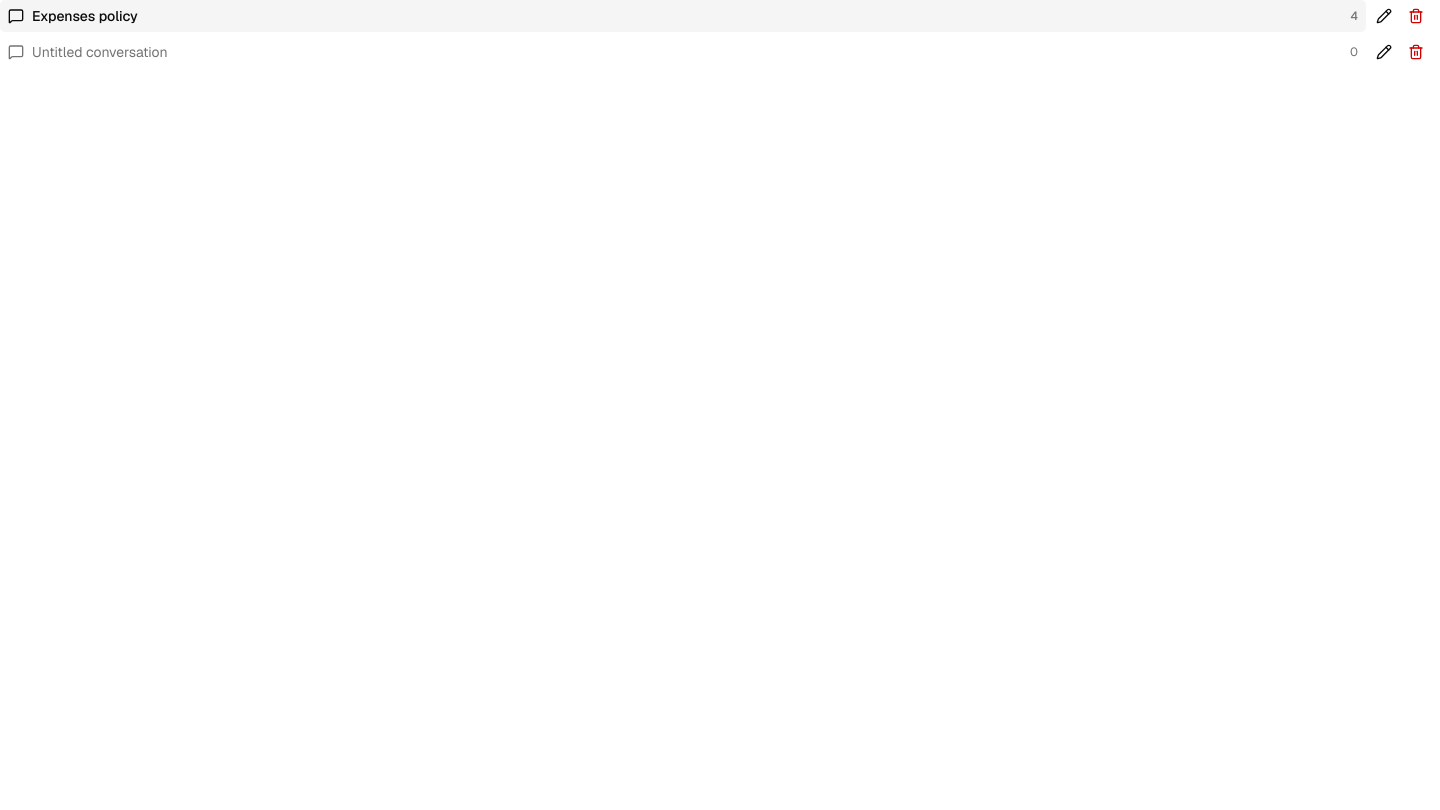
Test case: ConversationList › says so when a request fails, and does not pretend it worked
Click the button named "Delete Expenses policy" at (1416, 16), box [1402,2,1430,30]
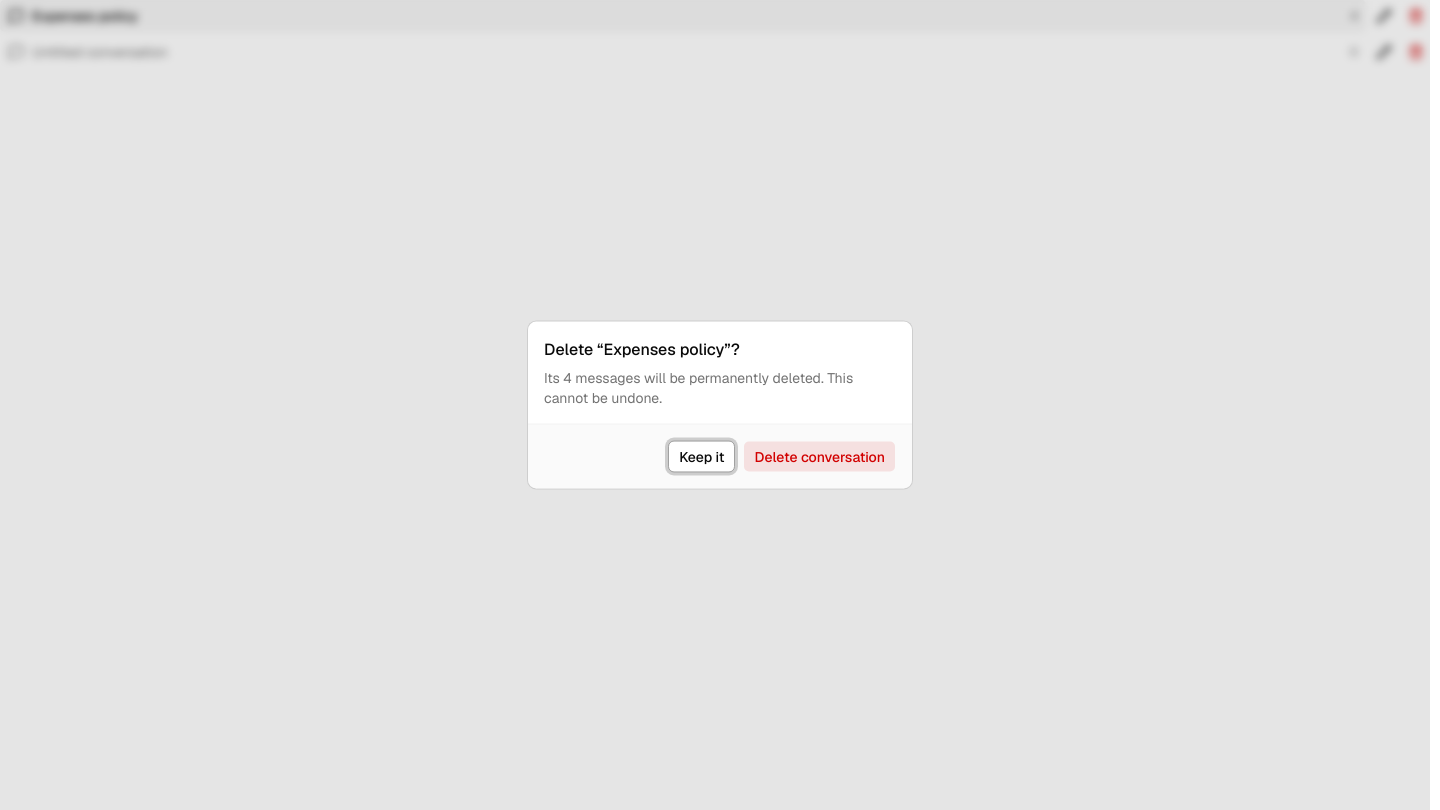
Click the button "Delete conversation" at (820, 456), box [743,440,896,472]
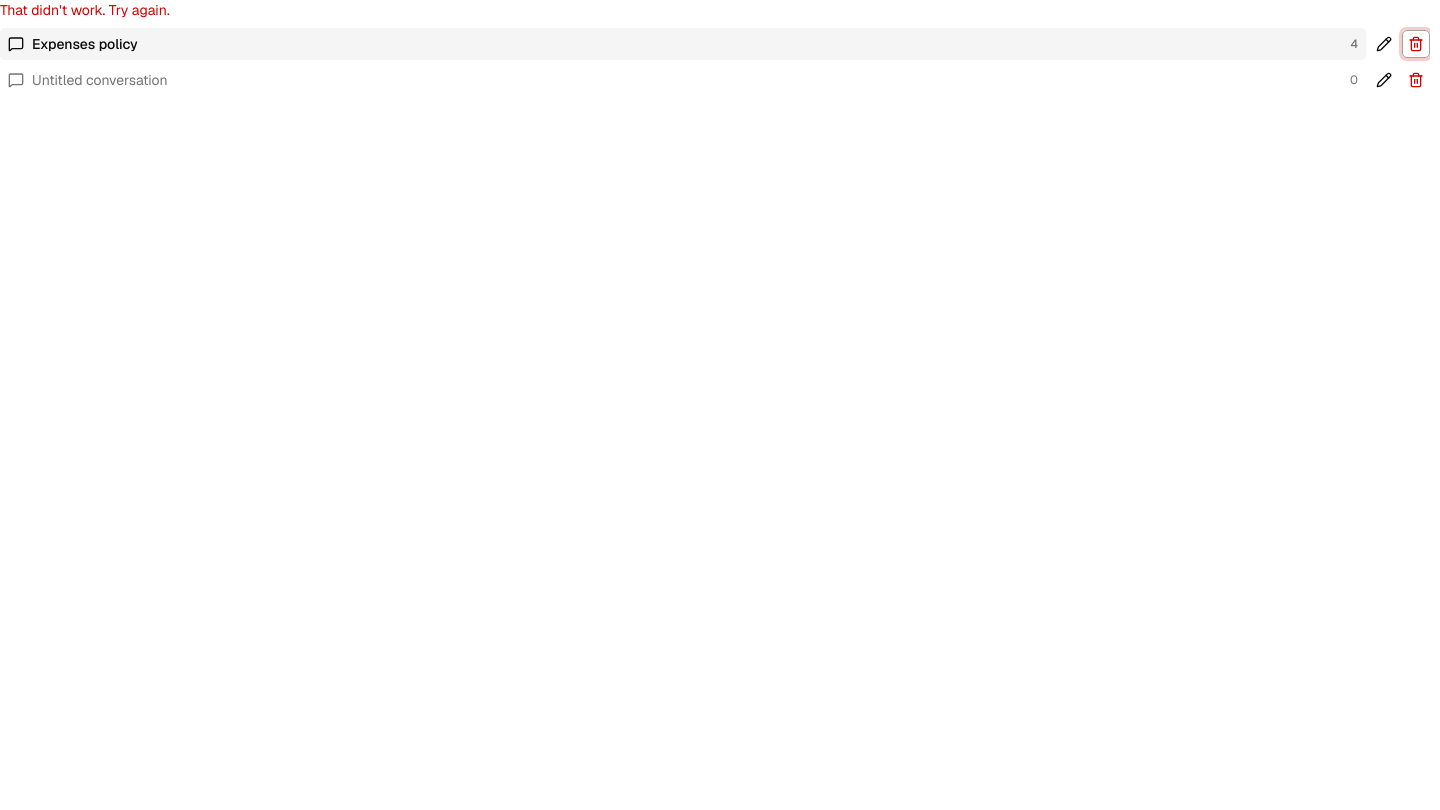
Check: the message shows "didn't work", box [0,1,170,19]
